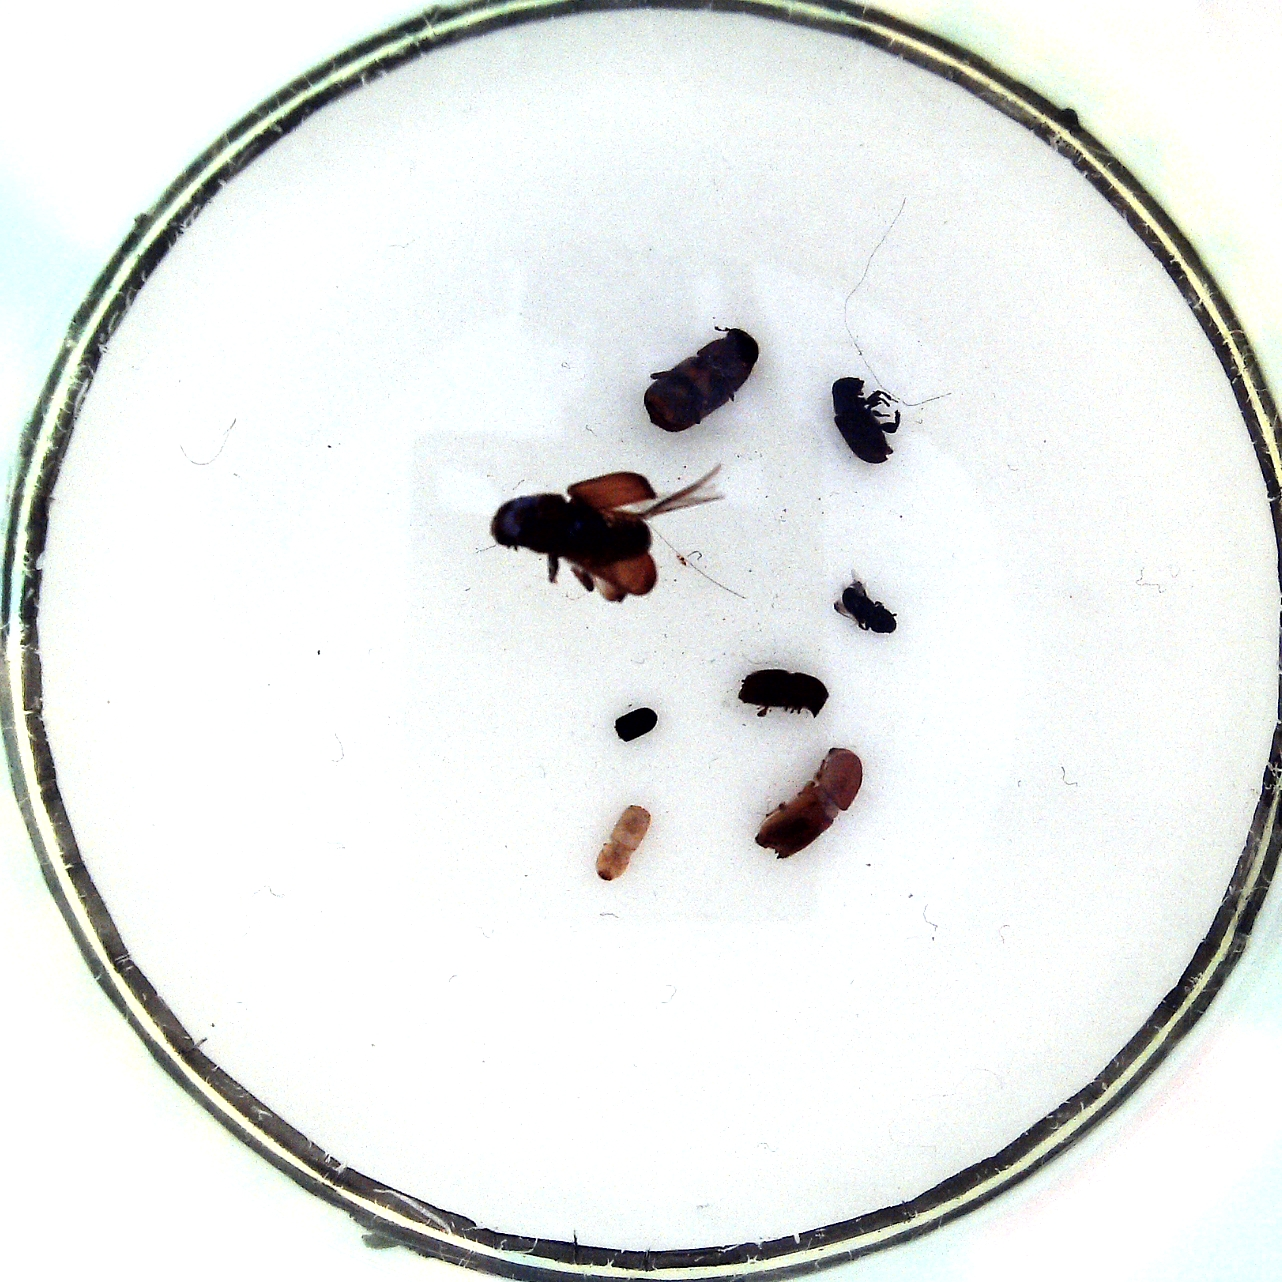Boerner: (748, 742, 871, 864)
Leconte: (483, 465, 728, 608), (636, 318, 764, 439)
Linnaeus: (736, 660, 832, 723)
acuminatus: (592, 798, 655, 888)
armandi: (823, 370, 900, 470)
coleoptera: (825, 571, 902, 639), (610, 701, 663, 749)
